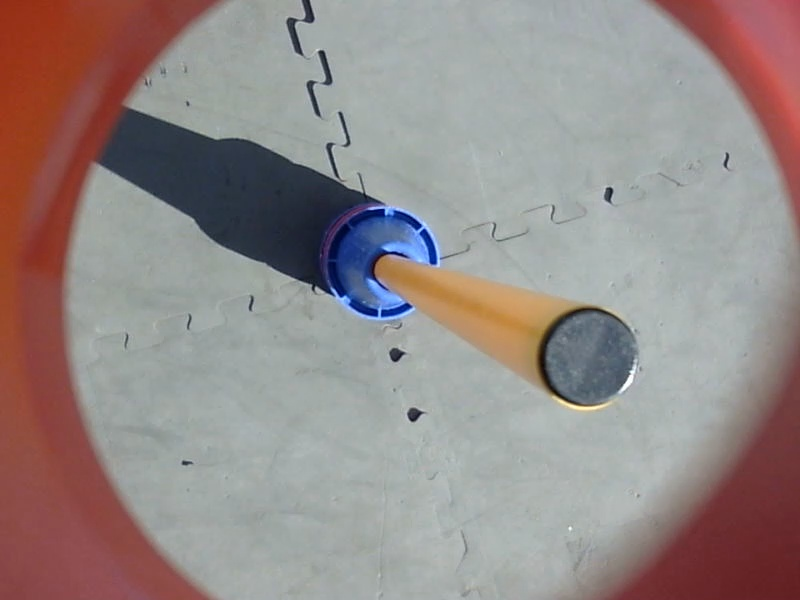tip: (527, 299, 651, 416)
